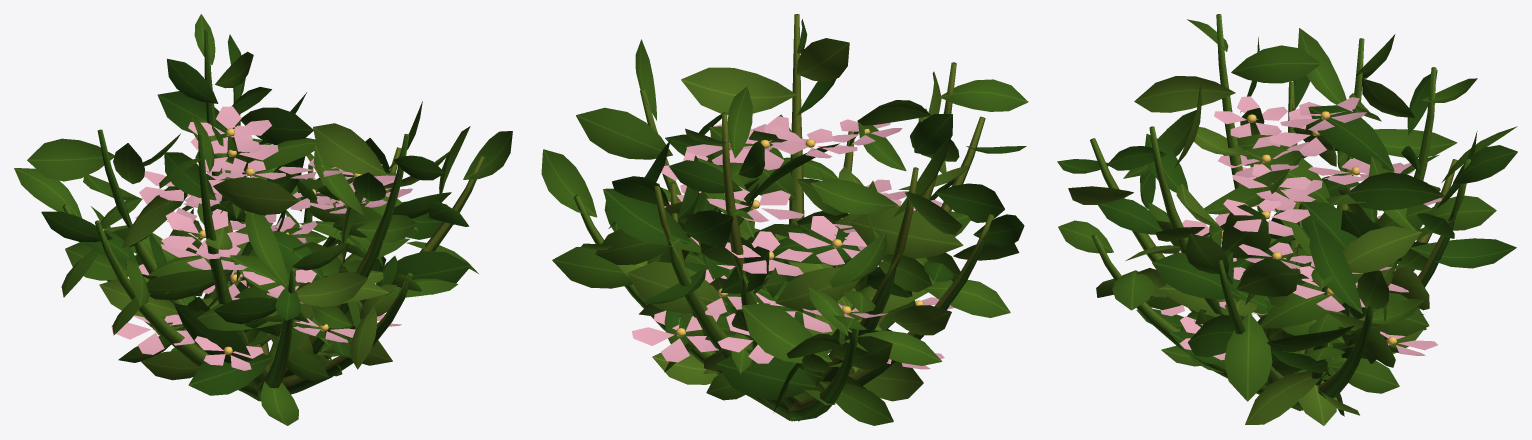
File: Flowering_shrub_2.glb
3 renders of one model, left to right at view 1: azimuth 30°, elevation 25°; view 2: azimuth 150°, elevation 25°; view 3: azimuth 270°, elevation 25°, orthographic. The views are drawn at different scales.
Visible parts, largest first — view 1: Flowering_shrub_2_Leaves.004, Flowering_shrub_2_Flowers.003, Flowering_shrub_2_Stems.004, Flowering_shrub_2_Centers.003; view 2: Flowering_shrub_2_Leaves.004, Flowering_shrub_2_Stems.004, Flowering_shrub_2_Flowers.003, Flowering_shrub_2_Centers.003; view 3: Flowering_shrub_2_Leaves.004, Flowering_shrub_2_Flowers.003, Flowering_shrub_2_Stems.004, Flowering_shrub_2_Centers.003.
Boxes of the visible parts, <box> form: Flowering_shrub_2_Leaves.004: <box>14,14,512,425</box>; Flowering_shrub_2_Flowers.003: <box>111,106,412,370</box>; Flowering_shrub_2_Stems.004: <box>63,29,485,401</box>; Flowering_shrub_2_Centers.003: <box>152,128,361,354</box>; Flowering_shrub_2_Leaves.004: <box>541,19,1028,425</box>; Flowering_shrub_2_Stems.004: <box>574,14,994,421</box>; Flowering_shrub_2_Flowers.003: <box>632,116,954,369</box>; Flowering_shrub_2_Centers.003: <box>676,129,923,336</box>; Flowering_shrub_2_Leaves.004: <box>1057,19,1517,425</box>; Flowering_shrub_2_Flowers.003: <box>1160,96,1441,360</box>; Flowering_shrub_2_Stems.004: <box>1090,14,1470,410</box>; Flowering_shrub_2_Centers.003: <box>1221,111,1396,345</box>.
Size of the model in its own units: 1.42 by 1.04 by 1.28.
3 materials, 1 textured.
